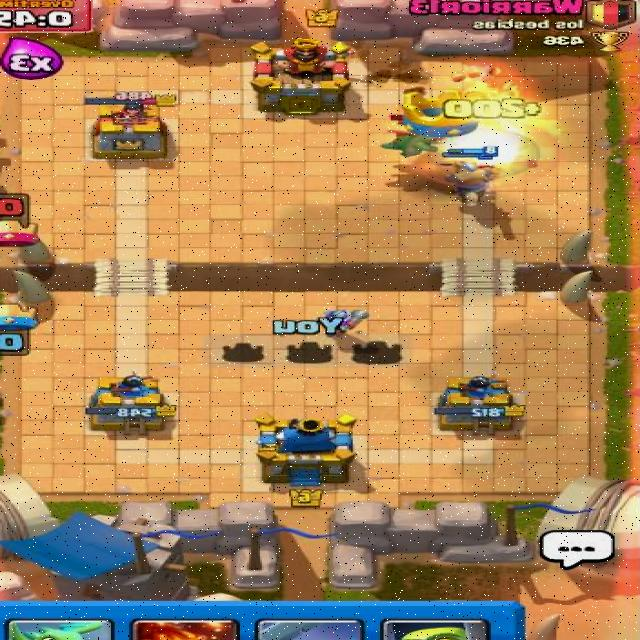Enemy-BabyDragon: (376, 110, 460, 159)
Player-Musketeer: (320, 307, 371, 336)
Player-Prince: (440, 144, 504, 207)
